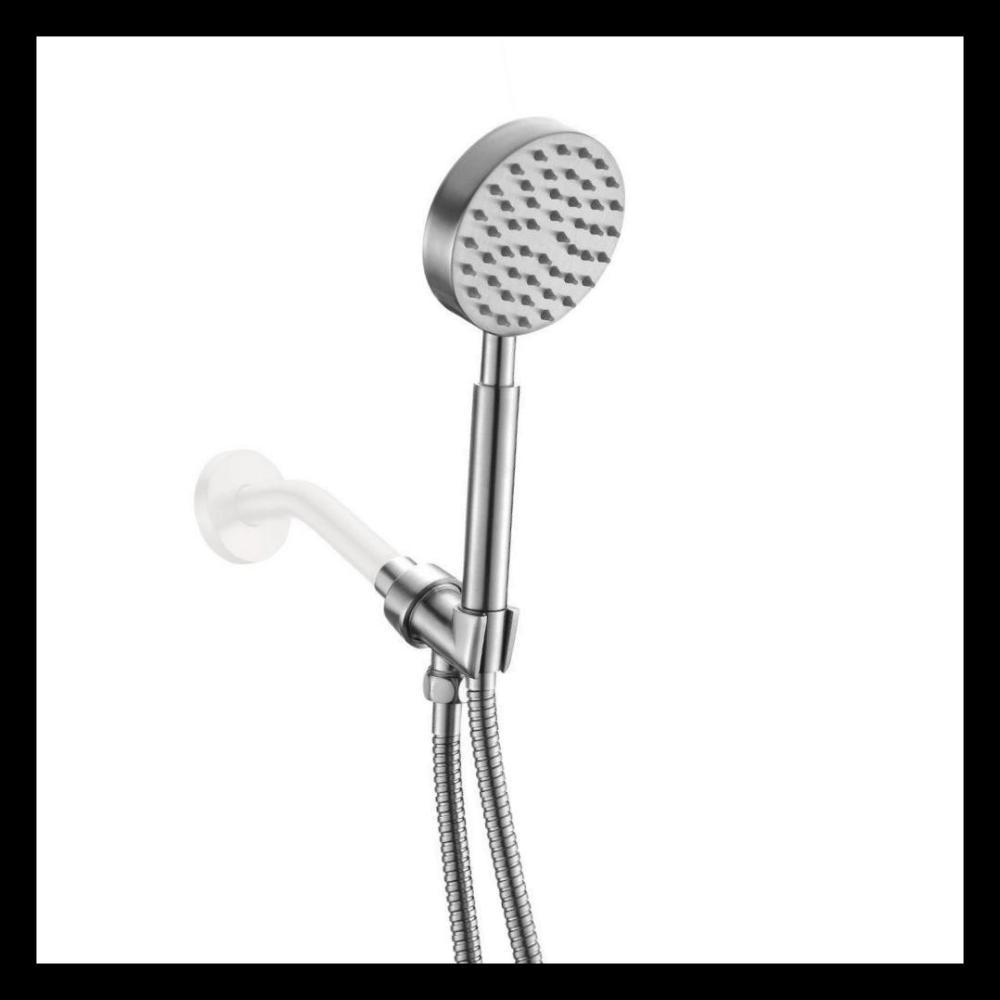Ducha: (202, 96, 649, 963)
